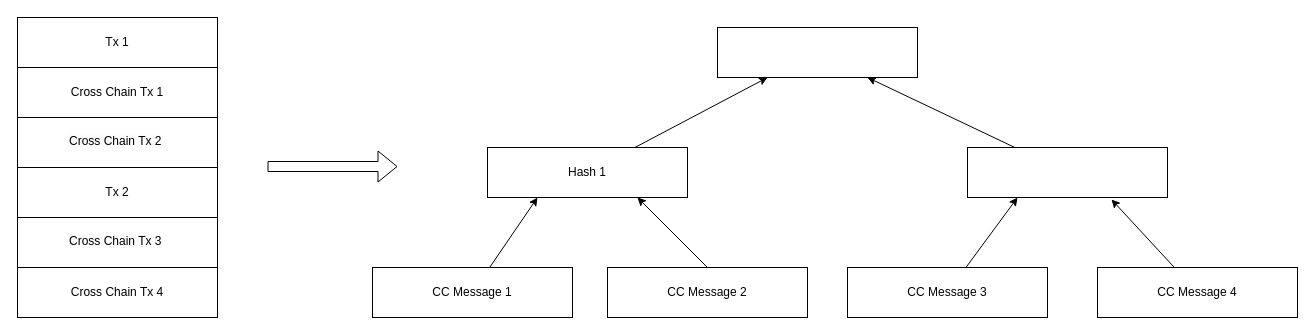
The diagram is 1315 pixels wide and 335 high, and some of its shapes have lost their labels. Here are the shapes that lost their labels. From the top down, the box of each, then its label:
(716, 26, 918, 78): CC Message Root
(966, 146, 1168, 198): Hash 2
